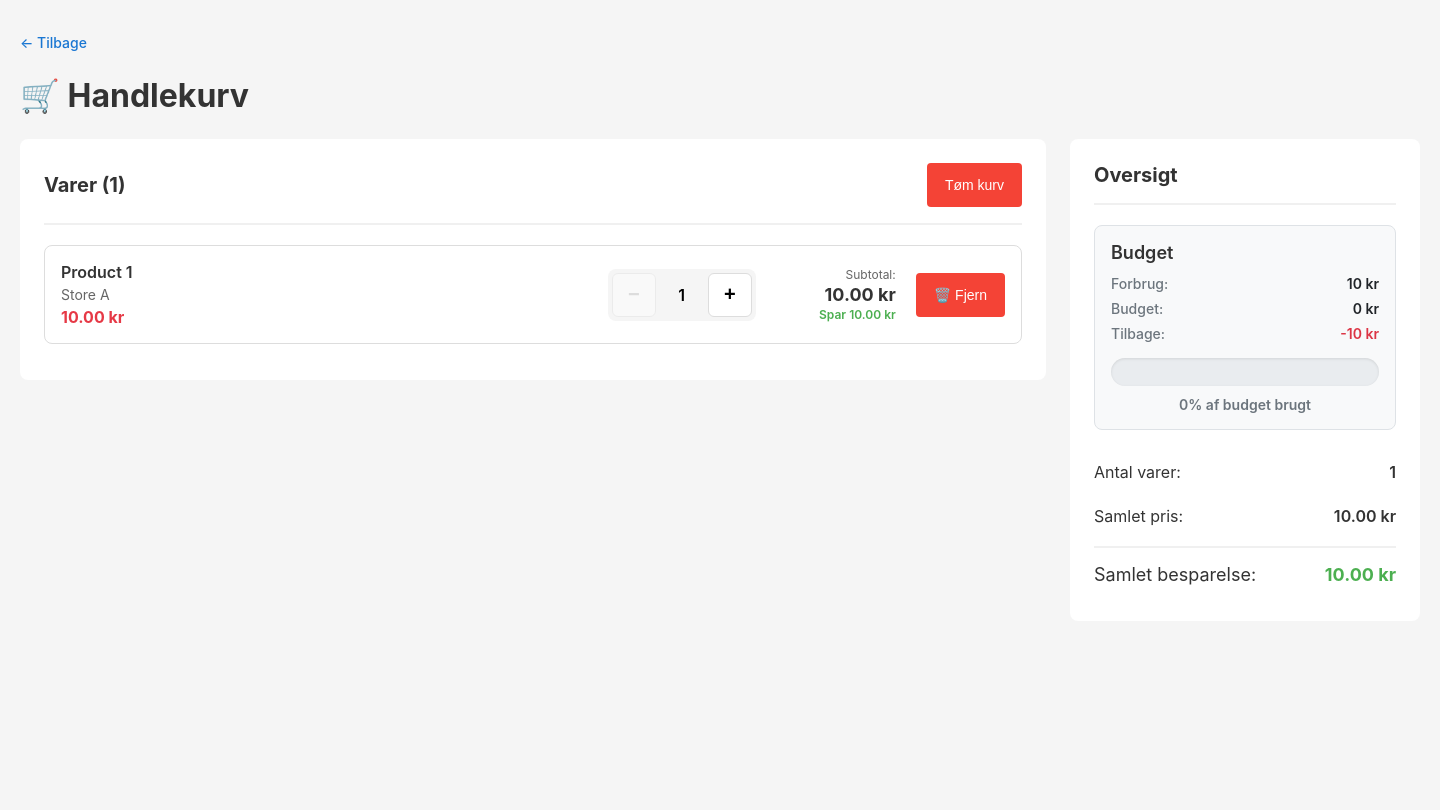
Test: Handlekurv › shows confirmation dialog when "Tøm kurv" clicked
Click the button "Tøm kurv" at {"x": 974, "y": 185}, box x1=927 y1=163 x2=1022 y2=207
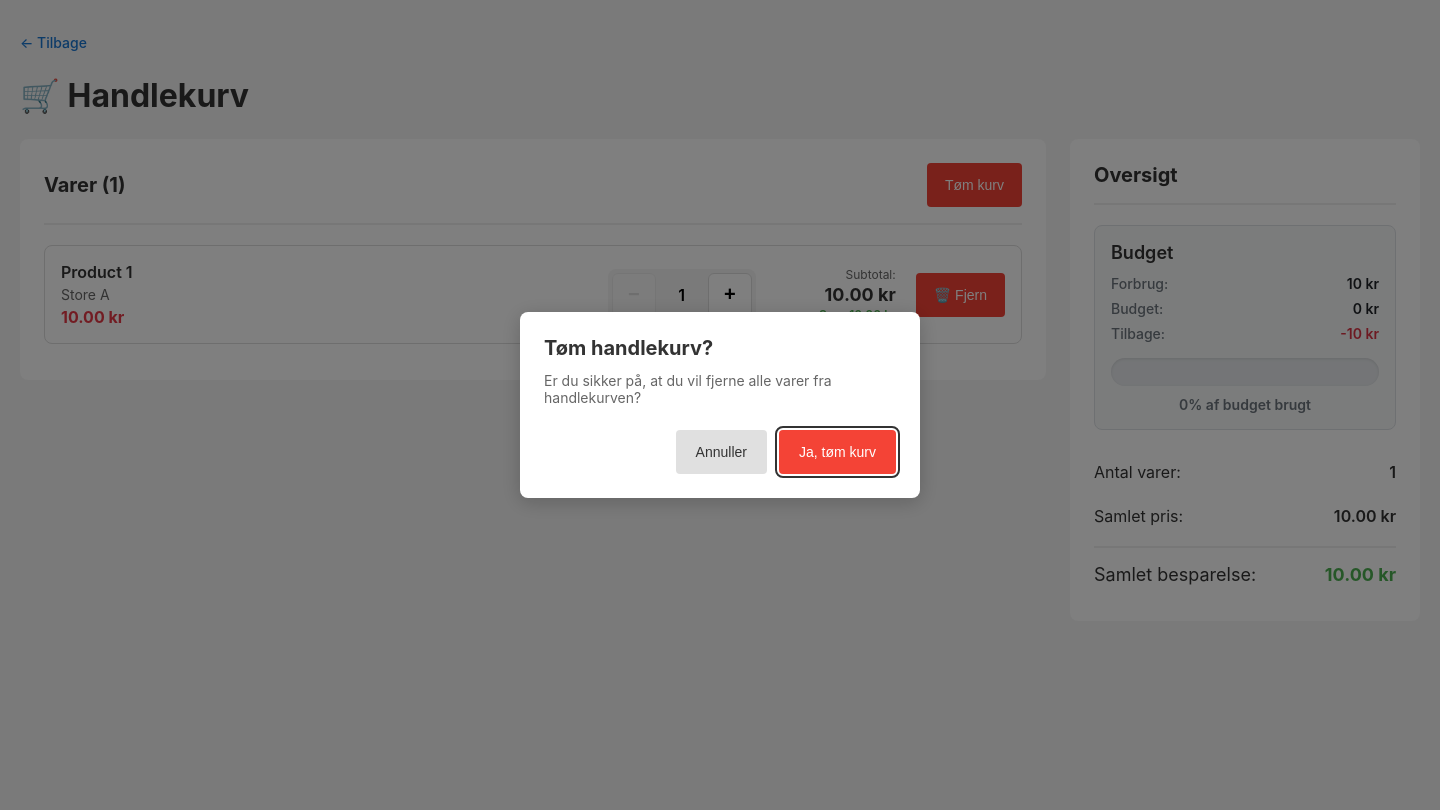
Check: the heading "Tøm handlekurv?" is shown, box x1=544 y1=336 x2=713 y2=360
Check: the text "Er du sikker på, at du vil fjerne alle varer fra handlekurven?" is shown, box x1=544 y1=372 x2=832 y2=406
